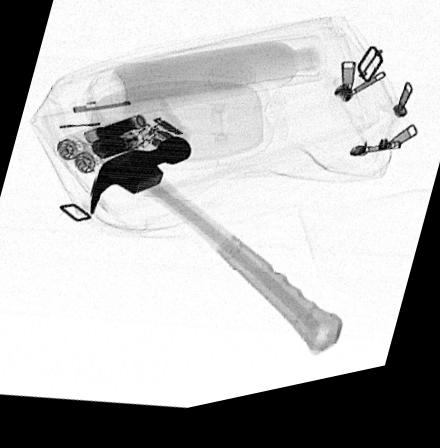Hammer: (89, 142, 343, 368)
